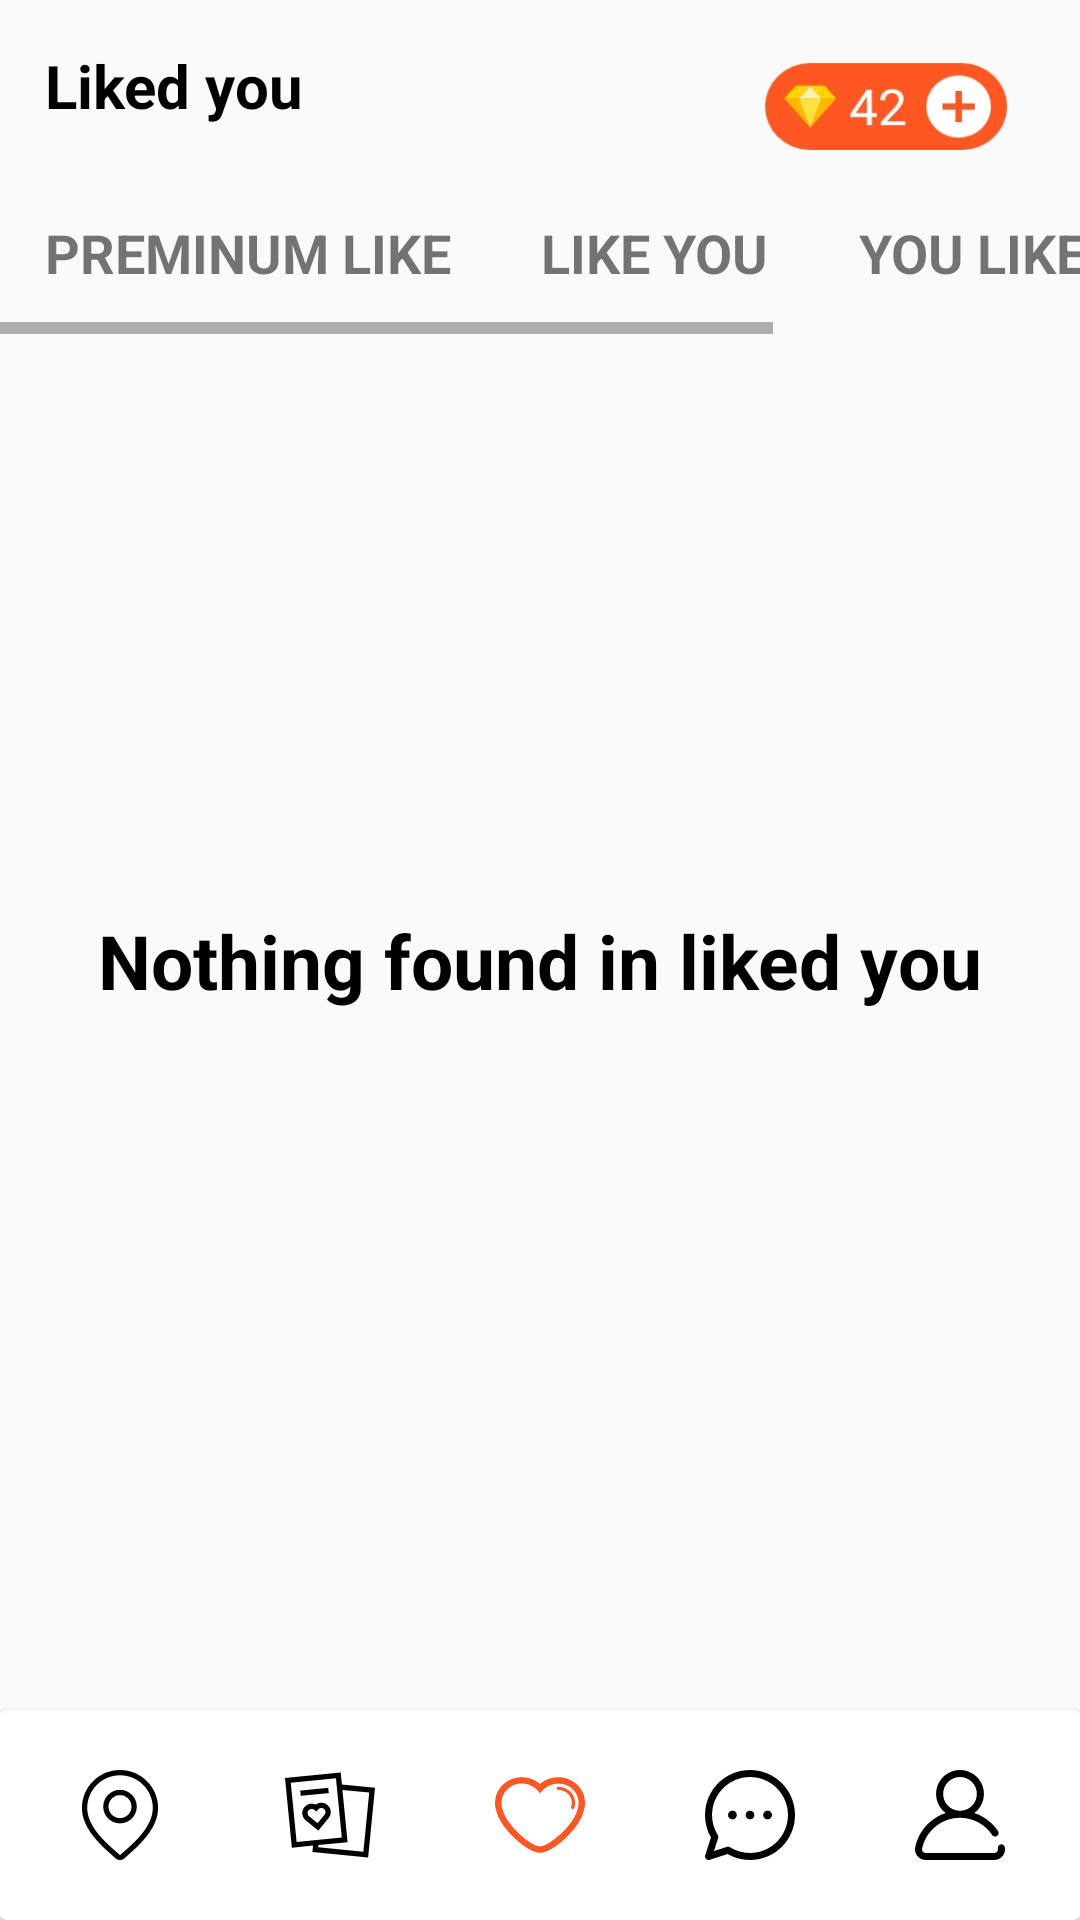

Screen size 1080px×1920px. Icon name, then its box in pixels as (x1, y1, x2, y2):
cardclip plan: (285, 1772, 375, 1858)
heartclip: (495, 1777, 585, 1853)
locationclip: (82, 1770, 158, 1860)
message: (705, 1770, 795, 1860)
personclip: (915, 1770, 1005, 1860)
points: (764, 63, 1008, 150)
